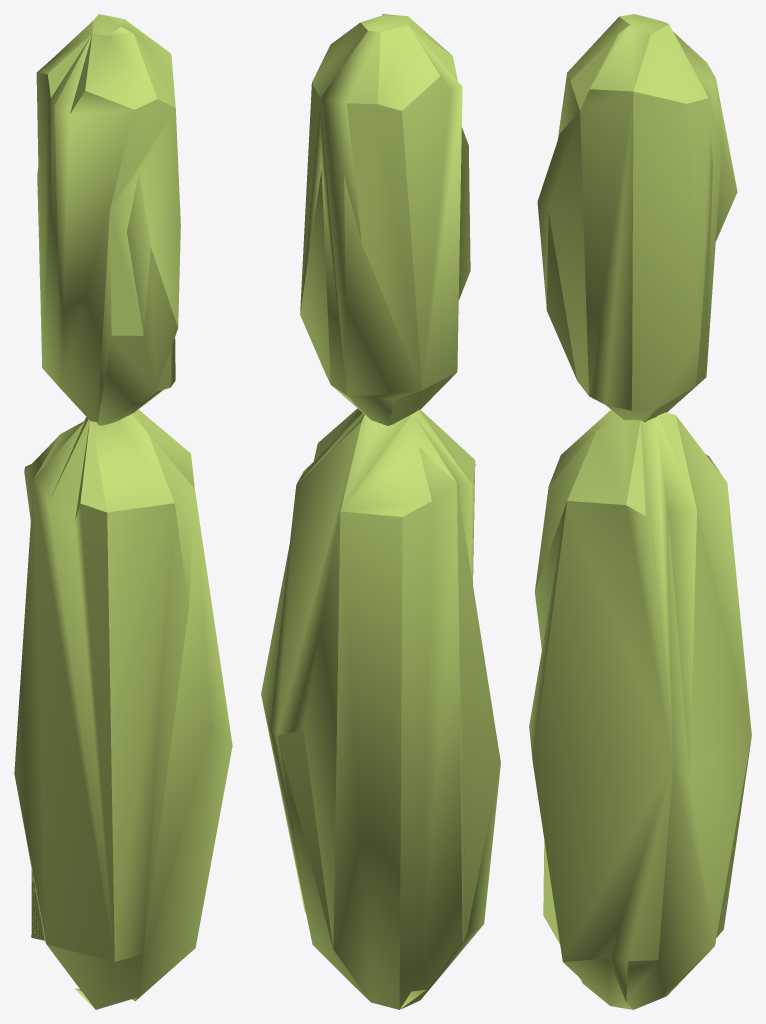
File: Cactus2_Culled.fbx
3 views of the same model, side by side, from view 1: azimuth 30°, elevation 25°; view 2: azimuth 150°, elevation 25°; view 3: azimuth 270°, elevation 25° (orthographic).
Parts seen in each view (by area): view 1: Cactus2Culled; view 2: Cactus2Culled; view 3: Cactus2Culled.
Boxes of the visible parts, box(x1,y1,x2,y2) form: Cactus2Culled: box(14, 14, 232, 1009); Cactus2Culled: box(261, 14, 500, 1009); Cactus2Culled: box(529, 14, 751, 1009).
Size of the model in its own units: 24.9 by 109 by 22.42.
